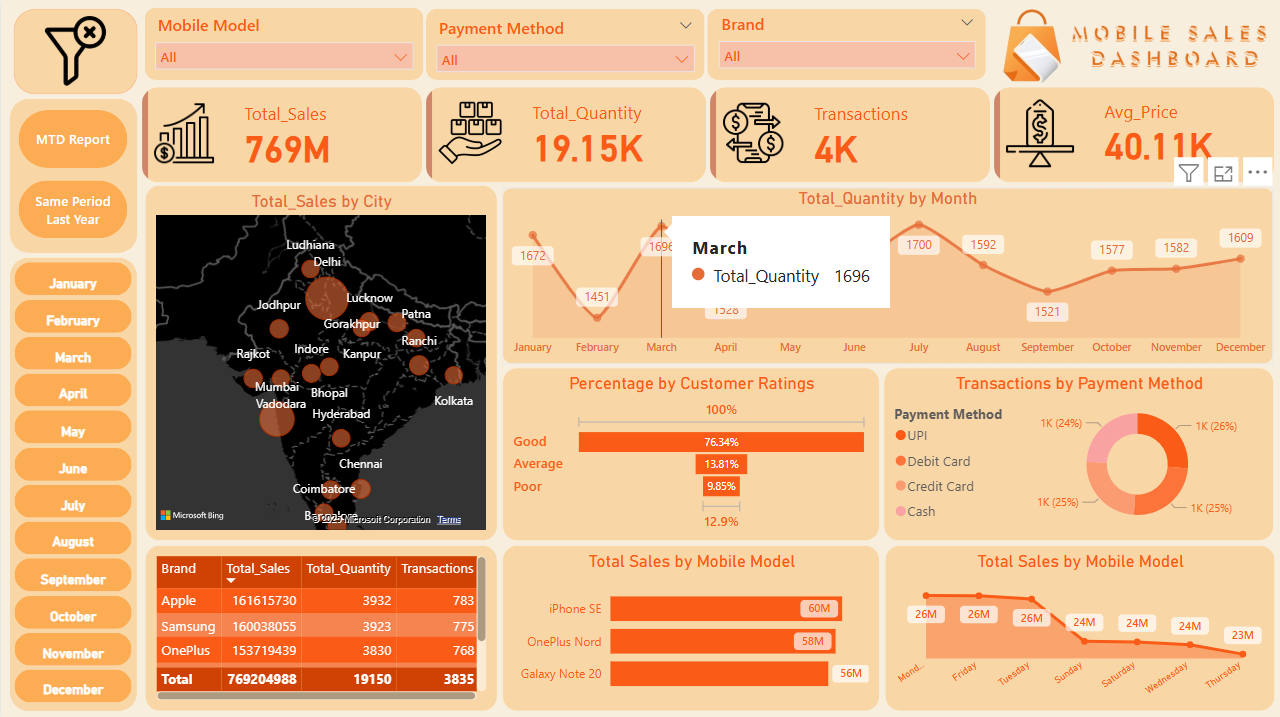

The page's visual inventory and layout, read from the dashboard file:
{"tool":"powerbi","page":{"name":"Dashboard","canvas":[1280,720],"ordinal":0},"visuals":[{"type":"shape","box":[501.2,187.5,771.2,176.2],"z":0},{"type":"shape","box":[143.8,7.5,278.8,72.5],"z":1000},{"type":"image","box":[985,0,93.8,91.2],"z":2000},{"type":"shape","box":[8.4,98.2,127.6,154.3],"z":3000},{"type":"shape","box":[8.8,257.5,127.5,453.8],"z":4000},{"type":"advancedSlicerVisual","fields":{"Values":["Custom_Calendar.Date.Variation.Date Hierarchy.Month"]},"box":[8.4,257,127.9,454.8],"z":5000},{"type":"cardVisual","fields":{"Data":["Sales_Data.Total_Sales","Sales_Data.Total_Quantity","Sales_Data.Transactions","Sales_Data.Avg_Price"]},"box":[136.2,82.5,1143.8,105],"z":6000},{"type":"slicer","fields":{"Values":["Sales_Data.Mobile Model"]},"box":[143.8,8.8,278.8,71.2],"z":7000},{"type":"shape","box":[425,8.8,278.8,71.2],"z":8000},{"type":"shape","box":[706.2,8.8,278.8,71.2],"z":9000},{"type":"slicer","fields":{"Values":["Sales_Data.Payment Method"]},"box":[425,11.2,278.8,68.8],"z":10000},{"type":"slicer","fields":{"Values":["Sales_Data.Brand"]},"box":[707.5,7.5,277.5,72.5],"z":11000},{"type":"shape","box":[12.1,8.4,124.3,85.7],"z":12000},{"type":"image","box":[1065,8.8,207.5,73.8],"z":13000},{"type":"map","fields":{"Category":["Sales_Data.City"],"Size":["Sales_Data.Total_Sales"]},"box":[143.8,185,352.5,356.2],"z":14000},{"type":"lineChart","fields":{"Y":["Sales_Data.Total_Quantity"],"Category":["Custom_Calendar.Date.Variation.Date Hierarchy.Month"]},"box":[501.2,187.5,771.2,177.5],"z":15000},{"type":"funnel","title":"Percentage by Customer Ratings","fields":{"Category":["Sales_Data.Rating_Status"],"Y":["Sum(Sales_Data.Customer Ratings)"]},"box":[501.2,367.5,377.5,173.8],"z":16000},{"type":"donutChart","title":"Transactions by Payment Method","fields":{"Y":["Sales_Data.Transactions"],"Category":["Sales_Data.Payment Method"]},"box":[882.5,367.5,390,173.8],"z":17000},{"type":"clusteredBarChart","title":"Total Sales by Mobile Model","fields":{"Category":["Sales_Data.Mobile Model"],"Y":["Sales_Data.Total_Sales"]},"box":[501.2,545,377.5,166.2],"z":18000},{"type":"areaChart","title":"Total Sales by Mobile Model","fields":{"Y":["Sales_Data.Total_Sales"],"Category":["Custom_Calendar.Day Name"]},"box":[883.8,545,390,166.2],"z":19000},{"type":"tableEx","title":"Total Sales by Mobile Model","fields":{"Values":["Sales_Data.Brand","Sales_Data.Total_Sales","Sales_Data.Total_Quantity","Sales_Data.Transactions"]},"box":[143.8,545,352.5,166.2],"z":20000},{"type":"pageNavigator","box":[16.9,109.8,109.8,129.1],"z":21000},{"type":"image","box":[30.4,11.6,88.2,79.5],"z":22000}]}

Visuals, with their boxes in screenshot pixels (x1, y1, x2, y2), scaled from the page's 1280x720 canvas onto the 1280x717 screenshot:
shape: [left=501, top=187, right=1272, bottom=362]
shape: [left=144, top=7, right=423, bottom=80]
image: [left=985, top=0, right=1079, bottom=91]
shape: [left=8, top=98, right=136, bottom=251]
shape: [left=9, top=256, right=136, bottom=708]
advancedSlicerVisual - Custom_Calendar.Date.Variation.Date Hierarchy.Month: [left=8, top=256, right=136, bottom=709]
cardVisual - Sales_Data.Total_Sales x Sales_Data.Total_Quantity: [left=136, top=82, right=1279, bottom=187]
slicer - Sales_Data.Mobile Model: [left=144, top=9, right=423, bottom=80]
shape: [left=425, top=9, right=704, bottom=80]
shape: [left=706, top=9, right=985, bottom=80]
slicer - Sales_Data.Payment Method: [left=425, top=11, right=704, bottom=80]
slicer - Sales_Data.Brand: [left=708, top=7, right=985, bottom=80]
shape: [left=12, top=8, right=136, bottom=94]
image: [left=1065, top=9, right=1272, bottom=82]
map - Sales_Data.City x Sales_Data.Total_Sales: [left=144, top=184, right=496, bottom=539]
lineChart - Sales_Data.Total_Quantity x Custom_Calendar.Date.Variation.Date Hierarchy.Month: [left=501, top=187, right=1272, bottom=363]
"Percentage by Customer Ratings" funnel: [left=501, top=366, right=879, bottom=539]
"Transactions by Payment Method" donutChart: [left=882, top=366, right=1272, bottom=539]
"Total Sales by Mobile Model" clusteredBarChart: [left=501, top=543, right=879, bottom=708]
"Total Sales by Mobile Model" areaChart: [left=884, top=543, right=1274, bottom=708]
"Total Sales by Mobile Model" tableEx: [left=144, top=543, right=496, bottom=708]
pageNavigator: [left=17, top=109, right=127, bottom=238]
image: [left=30, top=12, right=119, bottom=91]
